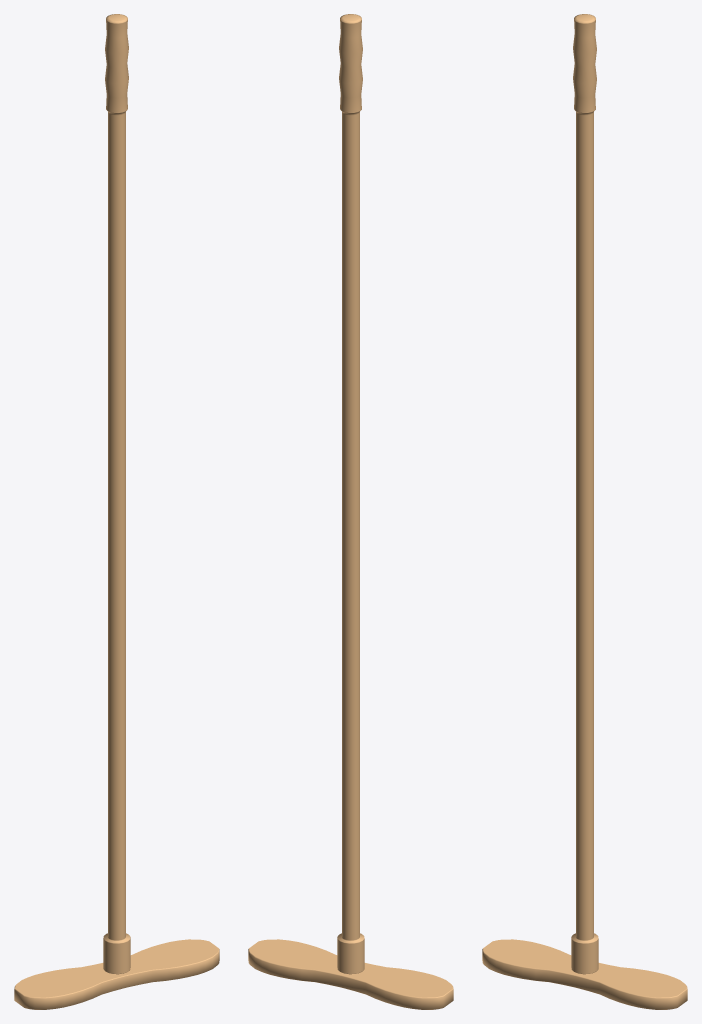
The model's file is broom_curling.dae.
The picture shows the model from 3 angles, left to right: view 1: azimuth 30°, elevation 25°; view 2: azimuth 150°, elevation 25°; view 3: azimuth 330°, elevation 25°; orthographic projection.
Parts seen in each view (by area): view 1: bar, base; view 2: bar, base; view 3: bar, base.
Boxes of the visible parts, x1,y1,x2,y2 form: bar: (103, 14, 130, 974); base: (14, 939, 219, 1009); bar: (337, 14, 364, 974); base: (248, 939, 453, 1009); bar: (571, 14, 598, 974); base: (482, 939, 687, 1009).
Size of the model in its own units: 0.3198 by 0.0812 by 1.51.
